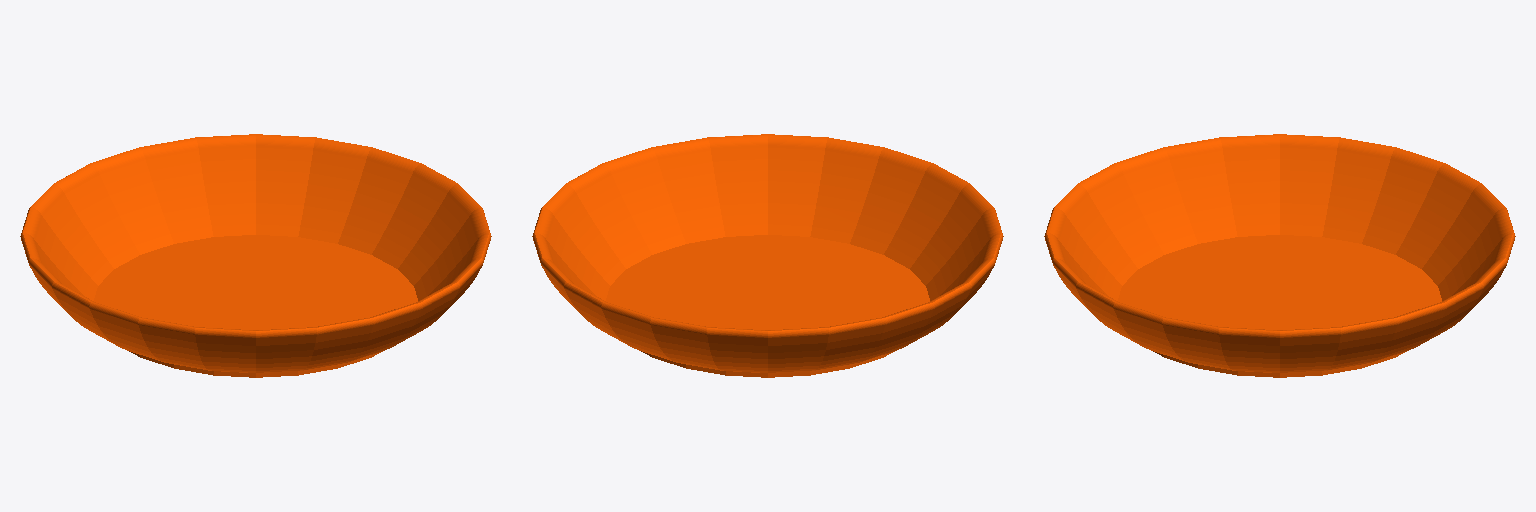
The robot description file, URDF, robot "Bowl_95ac294f47fd7d87e0b49f27ced29e3":
<?xml version="1.0" ?>
<robot name="Bowl_95ac294f47fd7d87e0b49f27ced29e3">
   <material name="obj_color">
      <color rgba="1.0 0.423529411765 0.0392156862745 1.0"/>
   </material>
   <link name="top">
      <inertial>
         <origin rpy="0.001439021501550157 0.001439022176917048 0.002745335530716647" xyz="0.0001404482544592064 -0.0004542166328020144 -0.001643488881961585"/>
         <mass value="0.7426987776240447"/>
         <inertia ixx="0.001439022129224035" ixy="1.73019292591767e-10" ixz="1.517476303629441e-10" iyy="0.001439021549243213" iyz="1.852094054971332e-10" izz="0.002745335530716603"/>
      </inertial>
      <visual>
         <origin rpy="0 0 0" xyz="0 0 0"/>
         <geometry>
            <mesh filename="top_watertight_tiny.stl" scale="1 1 1"/>
         </geometry>
         <material name="obj_color"/>
      </visual>
      <collision>
         <origin rpy="0 0 0" xyz="0 0 0"/>
         <geometry>
            <mesh filename="top_watertight_tiny.obj" scale="1 1 1"/>
         </geometry>
      </collision>
   </link>
   <link name="bottom">
      <inertial>
         <origin rpy="1.633333333199431e-08 1.633333333199431e-08 1.633333333362855e-08" xyz="0.3464080000000008 0.3464080000000008 0.3464080000000008"/>
         <mass value="0.0009800000000000017"/>
         <inertia ixx="1.633333333253906e-08" ixy="5.447480642029219e-19" ixz="5.447480642029219e-19" iyy="1.633333333253906e-08" iyz="5.447480642029219e-19" izz="1.633333333253906e-08"/>
      </inertial>
      <visual>
         <origin rpy="0 0 0" xyz="0 0 0"/>
         <geometry>
            <mesh filename="bottom_watertight_tiny.stl" scale="1 1 1"/>
         </geometry>
         <material name="obj_color"/>
      </visual>
   </link>
   <link name="world"/>
   <joint name="world_to_base" type="fixed">
      <origin xyz="0 0 0"/>
      <axis xyz="0 0 0"/>
      <parent link="world"/>
      <child link="bottom"/>
   </joint>
   <joint name="rotation" type="revolute">
      <origin xyz="0 0 0"/>
      <axis xyz="0 0 -1"/>
      <parent link="bottom"/>
      <child link="top"/>
      <dynamics damping="1.0" friction="1.0"/>
      <limit effort="0.1" velocity="0.1" lower="0" upper="0.001"/>
   </joint>
</robot>

--- Render facts (derived) ---
3 views of the same robot in one strip: view 1: azimuth 30°, elevation 25°; view 2: azimuth 150°, elevation 25°; view 3: azimuth 270°, elevation 25° (orthographic).
Robot: Bowl_95ac294f47fd7d87e0b49f27ced29e3 — 3 links, 2 joints (1 revolute, 1 fixed); root link world; default pose: all joints at 0.
Visible links, largest first — view 1: top; view 2: top; view 3: top.
Link boxes in pixels (x1,y1,x2,y2): top: (20,134,491,377); top: (532,134,1003,377); top: (1044,134,1515,377).
Size in the robot's own frame: 0.19 by 0.19 by 0.0339 metres.
Meshes: 2 distinct files referenced, 1 mesh visuals loaded (1 binary STL); not drawn: 1 (reference not matched to a file when rendering).
